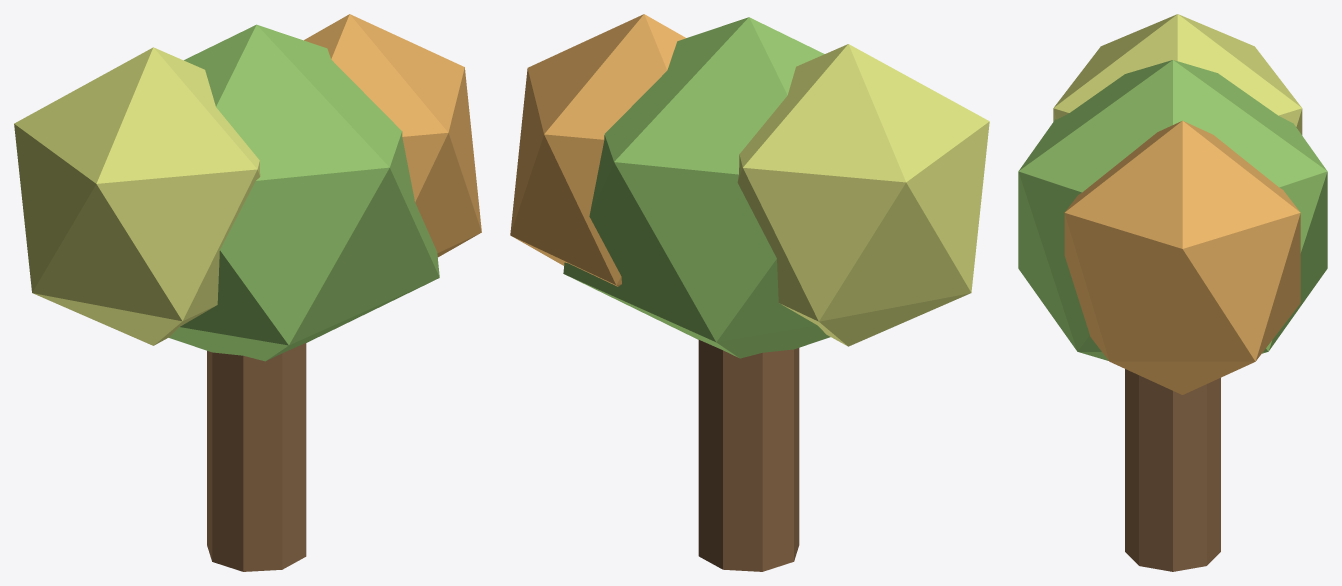
Rendered from tree_broad_03.glb.
3 views of the same model, side by side, from view 1: azimuth 30°, elevation 25°; view 2: azimuth 150°, elevation 25°; view 3: azimuth 270°, elevation 25° (orthographic). The views are drawn at different scales.
Parts seen in each view (by area): view 1: BroadTree_03_CrownA.001, BroadTree_03_CrownB.001, BroadTree_03_Trunk.001, BroadTree_03_CrownC.001; view 2: BroadTree_03_CrownB.001, BroadTree_03_CrownA.001, BroadTree_03_CrownC.001, BroadTree_03_Trunk.001; view 3: BroadTree_03_CrownC.001, BroadTree_03_CrownA.001, BroadTree_03_Trunk.001, BroadTree_03_CrownB.001.
Boxes of the visible parts, <box> form: BroadTree_03_CrownA.001: <box>169,24,439,361</box>; BroadTree_03_CrownB.001: <box>14,47,260,345</box>; BroadTree_03_Trunk.001: <box>207,343,306,571</box>; BroadTree_03_CrownC.001: <box>304,14,481,257</box>; BroadTree_03_CrownB.001: <box>737,44,989,346</box>; BroadTree_03_CrownA.001: <box>563,17,830,358</box>; BroadTree_03_CrownC.001: <box>510,14,685,286</box>; BroadTree_03_Trunk.001: <box>698,340,799,571</box>; BroadTree_03_CrownC.001: <box>1064,120,1300,394</box>; BroadTree_03_CrownA.001: <box>1018,60,1327,360</box>; BroadTree_03_Trunk.001: <box>1125,369,1220,571</box>; BroadTree_03_CrownB.001: <box>1053,14,1302,135</box>.
Bounding box in the file's own units: 1.95 × 2.26 × 1.29.
